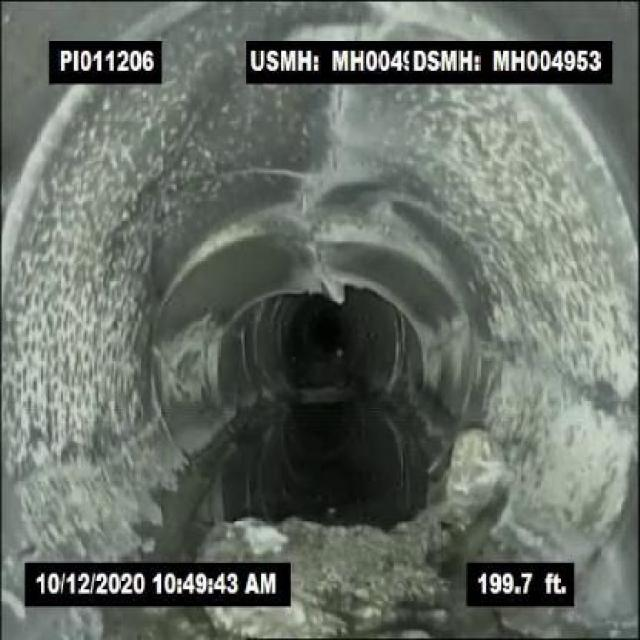Buckling: (296, 88, 356, 204), (292, 208, 348, 308)
Crack: (208, 163, 290, 191)
Joint offset: (185, 202, 289, 260), (335, 215, 431, 263)
Obstacle: (198, 512, 444, 638)
